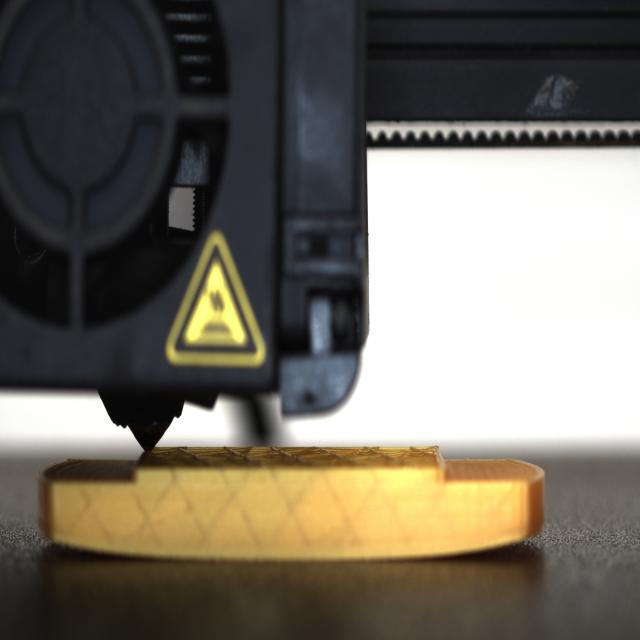Warping: (451, 525, 540, 562)
